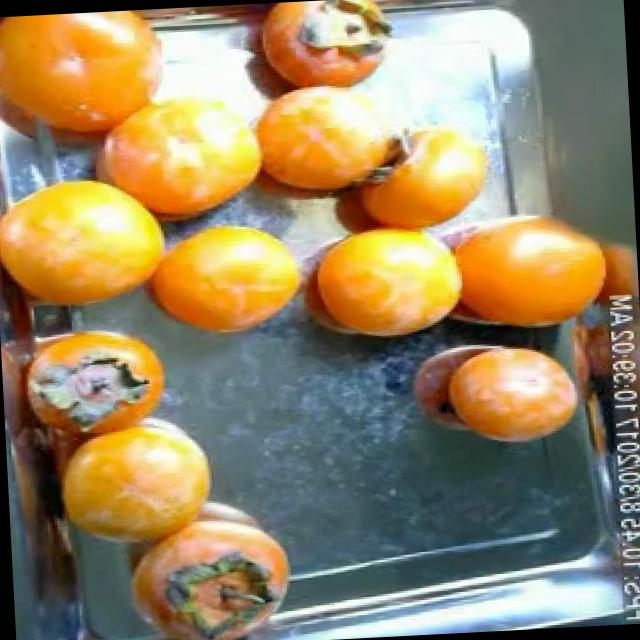Fruit: (0, 155, 193, 331), (278, 206, 480, 360), (119, 214, 324, 356), (413, 334, 590, 457)
